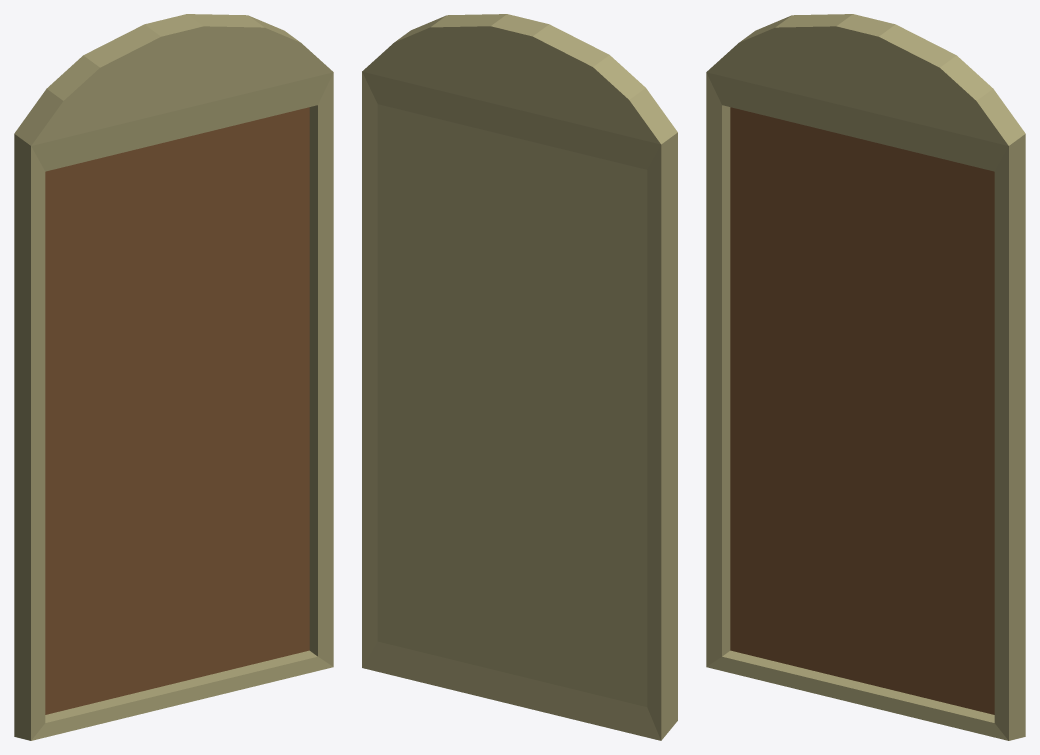
File: door.fbx
The picture shows the model from 3 angles, left to right: view 1: azimuth 30°, elevation 25°; view 2: azimuth 150°, elevation 25°; view 3: azimuth 330°, elevation 25°; orthographic projection.
Parts seen in each view (by area): view 1: Door; view 2: Door; view 3: Door.
Part boxes in pixels (x1,y1,x2,y2): Door: (14,14,333,740); Door: (362,14,677,740); Door: (706,14,1025,740).
Bounding box in the file's own units: 117 × 251 × 11.28.
